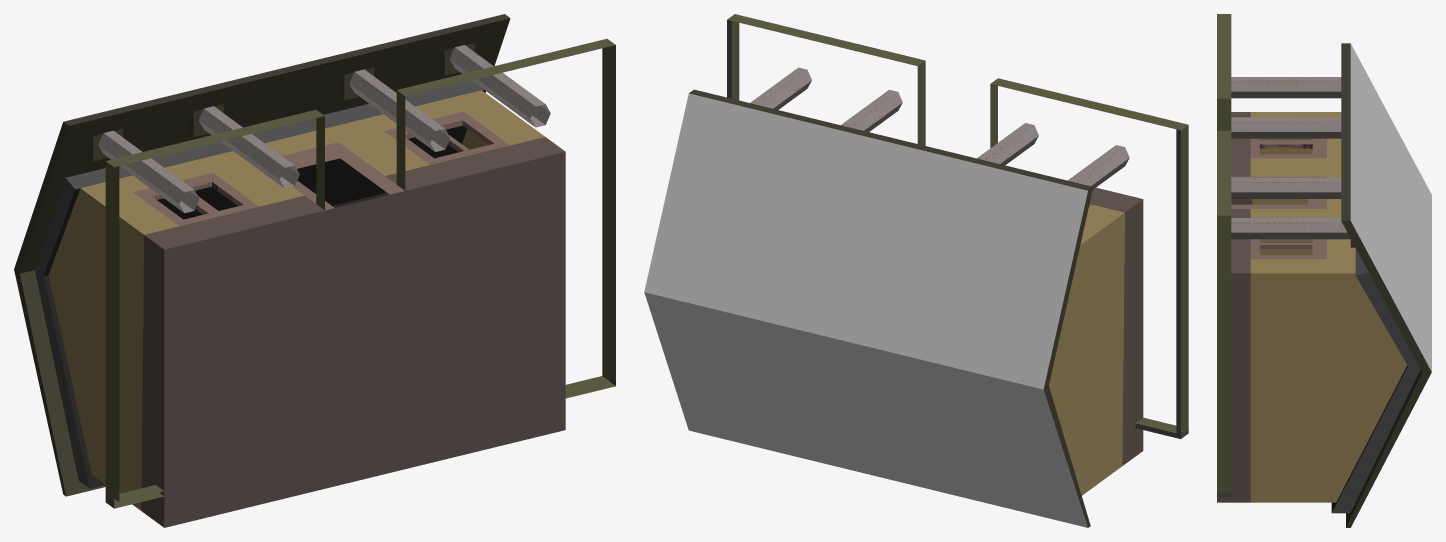
File: na-cabin.dae
3 views of the same model, side by side, from view 1: azimuth 30°, elevation 25°; view 2: azimuth 150°, elevation 25°; view 3: azimuth 270°, elevation 25° (orthographic). The views are drawn at different scales.
Parts seen in each view (by area): view 1: cabin; view 2: cabin; view 3: cabin.
Boxes of the visible parts, bbox=[...] form: cabin: bbox=[14, 14, 615, 527]; cabin: bbox=[644, 14, 1188, 527]; cabin: bbox=[1217, 14, 1431, 527].
Bounding box in the file's own units: 1.63 × 0.7324 × 1.22.
